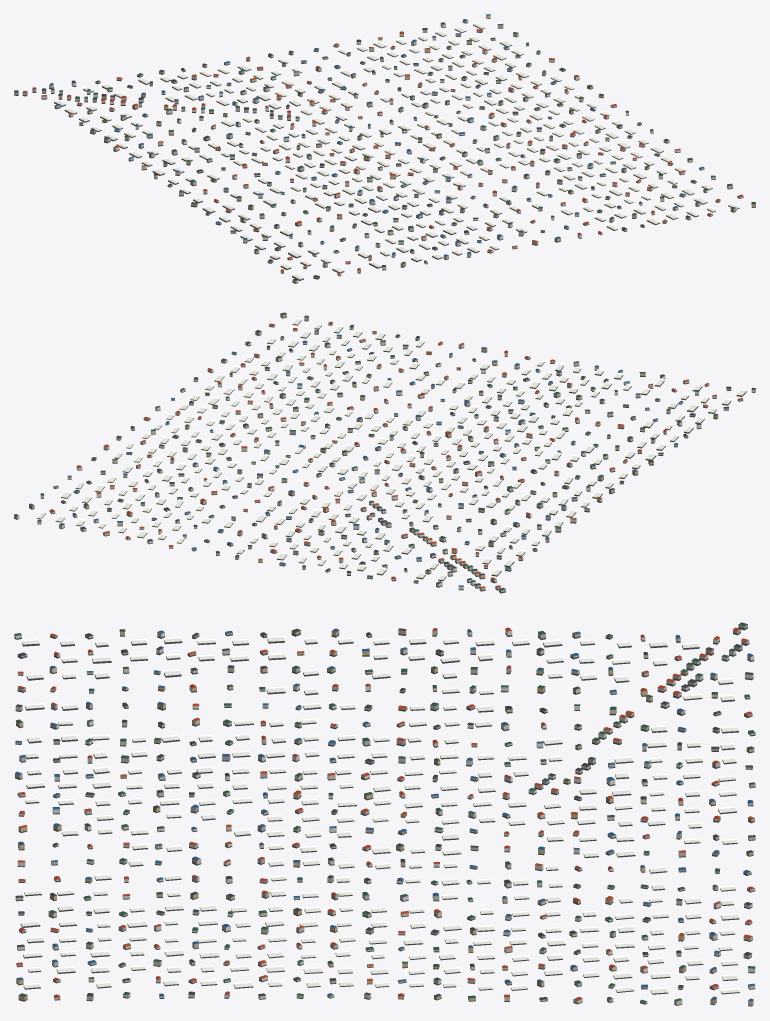
Rendered from buildings_T_E02_N06.glb.
The picture shows the model from 3 angles, top to bottom: view 1: azimuth 30°, elevation 25°; view 2: azimuth 150°, elevation 25°; view 3: azimuth 270°, elevation 25°; orthographic projection. The views are drawn at different scales.
Parts seen in each view (by area): view 1: T_E02_N06_slope_seating_foundations, T_E02_N06_roofs_agri_greenhouse_arch, T_E02_N06_walls_wall_pastel_sand_gray, T_E02_N06_walls_wall_dalat_cream_stucco, T_E02_N06_roofs_roof_terracotta_gable, T_E02_N06_walls_wall_french_ochre_villa, T_E02_N06_walls_wall_modern_warm_white, T_E02_N06_roofs_roof_slate_French_villa_hip, T_E02_N06_roofs_roof_highland_blue_gable, T_E02_N06_roofs_roof_pine_green_hip; view 2: T_E02_N06_slope_seating_foundations, T_E02_N06_roofs_agri_greenhouse_arch, T_E02_N06_walls_wall_pastel_sand_gray, T_E02_N06_walls_wall_dalat_cream_stucco, T_E02_N06_roofs_roof_terracotta_gable, T_E02_N06_walls_wall_modern_warm_white, T_E02_N06_walls_wall_french_ochre_villa, T_E02_N06_roofs_roof_highland_blue_gable, T_E02_N06_roofs_roof_slate_French_villa_hip, T_E02_N06_roofs_roof_pine_green_hip; view 3: T_E02_N06_slope_seating_foundations, T_E02_N06_roofs_agri_greenhouse_arch, T_E02_N06_walls_wall_pastel_sand_gray, T_E02_N06_walls_wall_dalat_cream_stucco, T_E02_N06_roofs_roof_terracotta_gable, T_E02_N06_walls_wall_modern_warm_white, T_E02_N06_walls_wall_french_ochre_villa, T_E02_N06_roofs_roof_slate_French_villa_hip, T_E02_N06_roofs_roof_highland_blue_gable, T_E02_N06_roofs_roof_pine_green_hip.
Boxes of the visible parts, left/top/right/bottom form: T_E02_N06_slope_seating_foundations: left=14, top=18, right=755, bottom=283; T_E02_N06_roofs_agri_greenhouse_arch: left=54, top=22, right=739, bottom=279; T_E02_N06_walls_wall_pastel_sand_gray: left=14, top=29, right=732, bottom=278; T_E02_N06_walls_wall_dalat_cream_stucco: left=67, top=15, right=743, bottom=275; T_E02_N06_roofs_roof_terracotta_gable: left=22, top=29, right=743, bottom=274; T_E02_N06_walls_wall_french_ochre_villa: left=58, top=25, right=755, bottom=266; T_E02_N06_walls_wall_modern_warm_white: left=41, top=23, right=715, bottom=282; T_E02_N06_roofs_roof_slate_French_villa_hip: left=41, top=28, right=732, bottom=277; T_E02_N06_roofs_roof_highland_blue_gable: left=49, top=14, right=736, bottom=263; T_E02_N06_roofs_roof_pine_green_hip: left=14, top=22, right=755, bottom=280; T_E02_N06_slope_seating_foundations: left=14, top=316, right=755, bottom=593; T_E02_N06_roofs_agri_greenhouse_arch: left=37, top=318, right=746, bottom=579; T_E02_N06_walls_wall_pastel_sand_gray: left=50, top=329, right=743, bottom=592; T_E02_N06_walls_wall_dalat_cream_stucco: left=14, top=324, right=709, bottom=582; T_E02_N06_roofs_roof_terracotta_gable: left=49, top=321, right=742, bottom=588; T_E02_N06_walls_wall_modern_warm_white: left=59, top=326, right=755, bottom=589; T_E02_N06_walls_wall_french_ochre_villa: left=29, top=314, right=718, bottom=578; T_E02_N06_roofs_roof_highland_blue_gable: left=14, top=315, right=701, bottom=586; T_E02_N06_roofs_roof_slate_French_villa_hip: left=61, top=324, right=731, bottom=585; T_E02_N06_roofs_roof_pine_green_hip: left=40, top=312, right=755, bottom=590; T_E02_N06_slope_seating_foundations: left=14, top=627, right=755, bottom=1006; T_E02_N06_roofs_agri_greenhouse_arch: left=20, top=635, right=739, bottom=993; T_E02_N06_walls_wall_pastel_sand_gray: left=15, top=624, right=755, bottom=1003; T_E02_N06_walls_wall_dalat_cream_stucco: left=15, top=629, right=755, bottom=1005; T_E02_N06_roofs_roof_terracotta_gable: left=17, top=627, right=754, bottom=1000; T_E02_N06_walls_wall_modern_warm_white: left=14, top=629, right=755, bottom=1003; T_E02_N06_walls_wall_french_ochre_villa: left=16, top=630, right=754, bottom=1004; T_E02_N06_roofs_roof_slate_French_villa_hip: left=15, top=628, right=755, bottom=999; T_E02_N06_roofs_roof_highland_blue_gable: left=15, top=628, right=754, bottom=1001; T_E02_N06_roofs_roof_pine_green_hip: left=14, top=622, right=755, bottom=1002.
Size of the model in its own units: 1812 by 177 by 1752.
